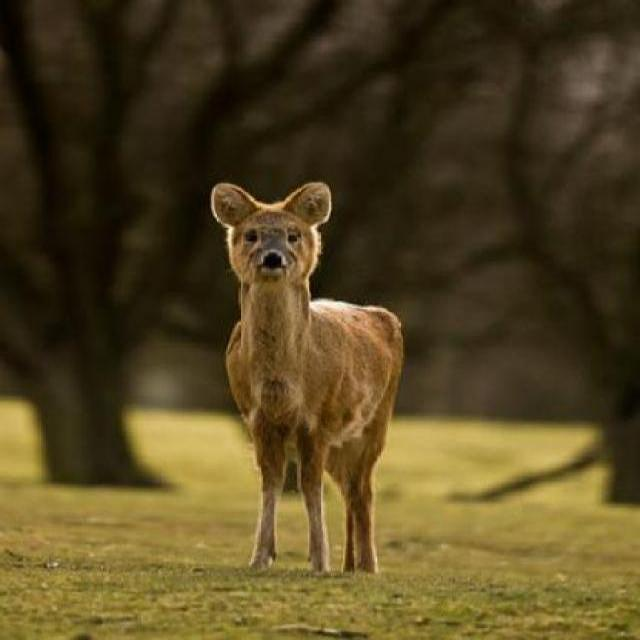deer: (203, 173, 409, 578)
